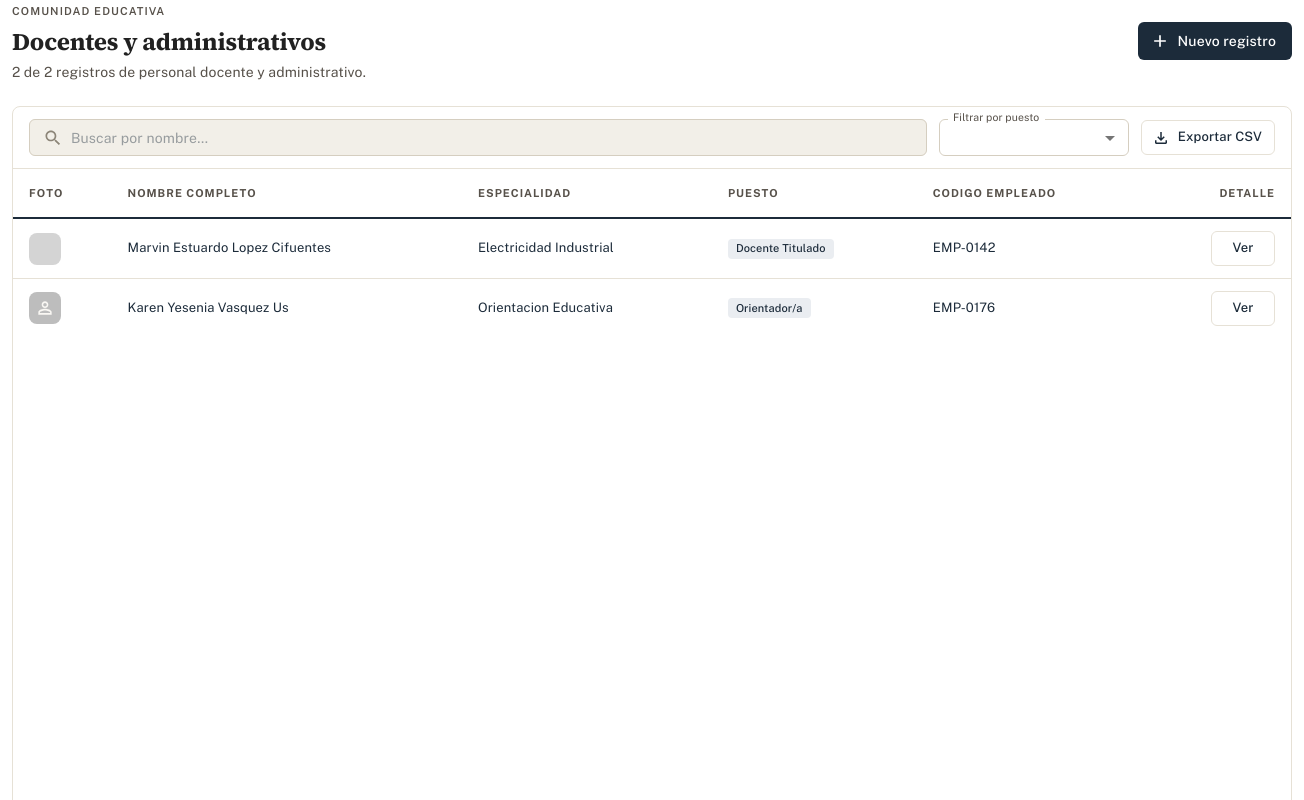
it: DocentesPage › filters by puesto
Expected: the text "Marvin Estuardo Lopez Cifuentes" is shown, [112, 219, 462, 279]
Click the dropdown named "Filtrar por puesto".
click(1034, 138)  # box [939, 119, 1129, 156]
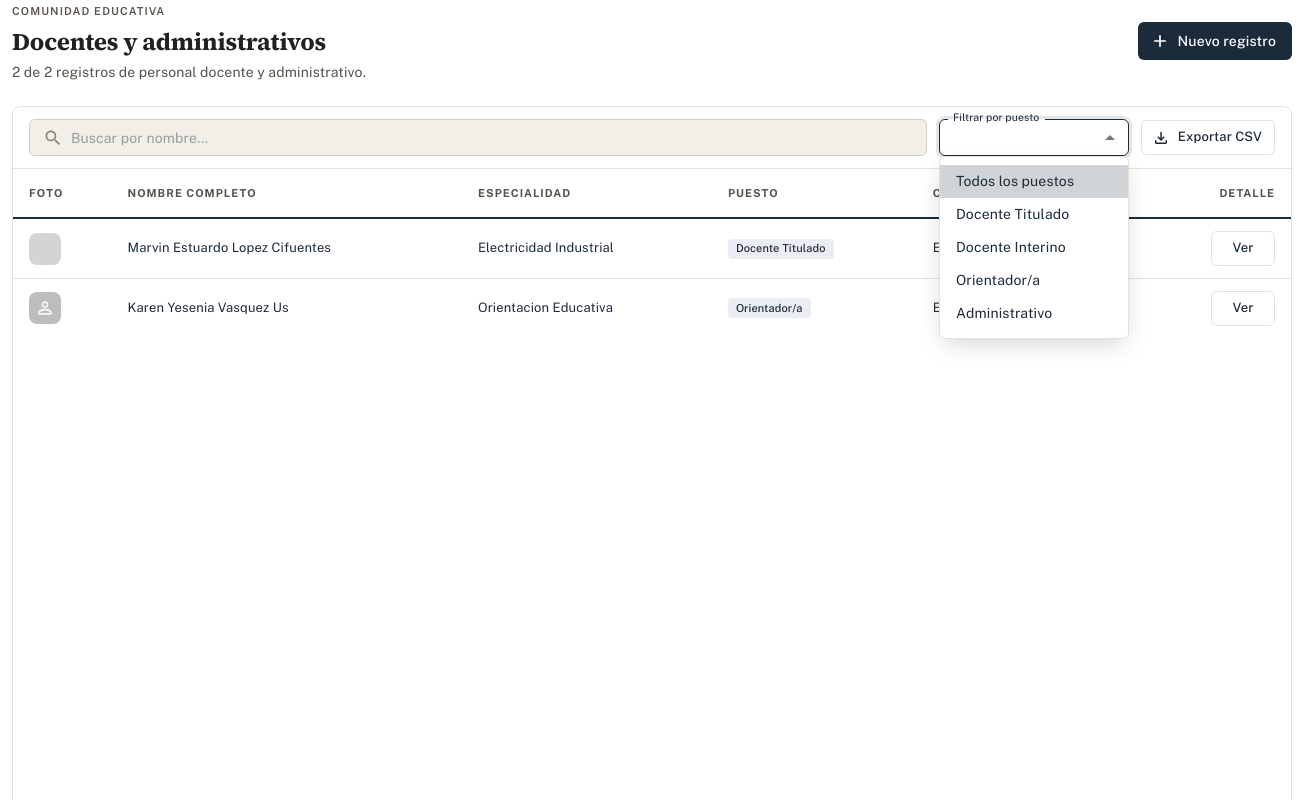
Click the option "Orientador/a".
click(998, 280)  # box [956, 272, 1040, 288]
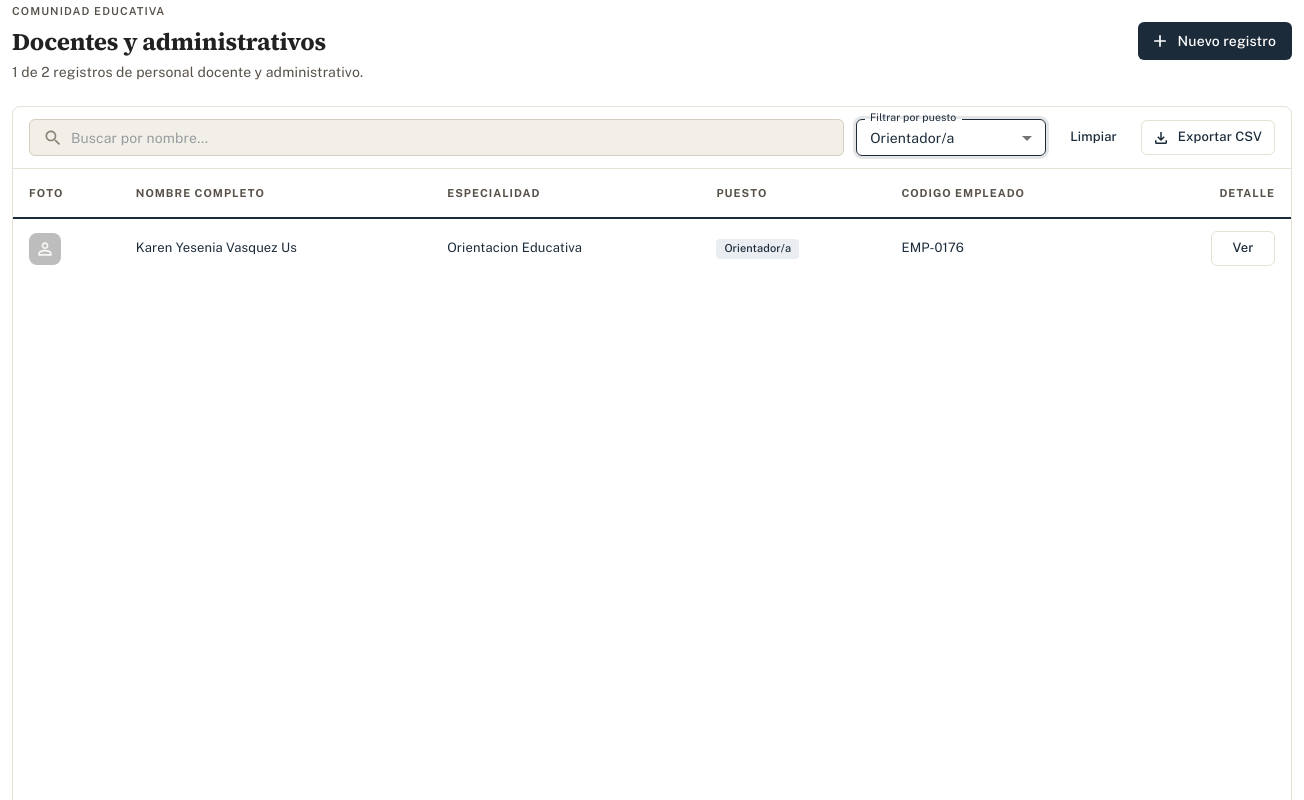
Expected: the text "Karen Yesenia Vasquez Us" is shown, [120, 219, 431, 278]
Expected: the text "Marvin Estuardo Lopez Cifuentes" is gone
